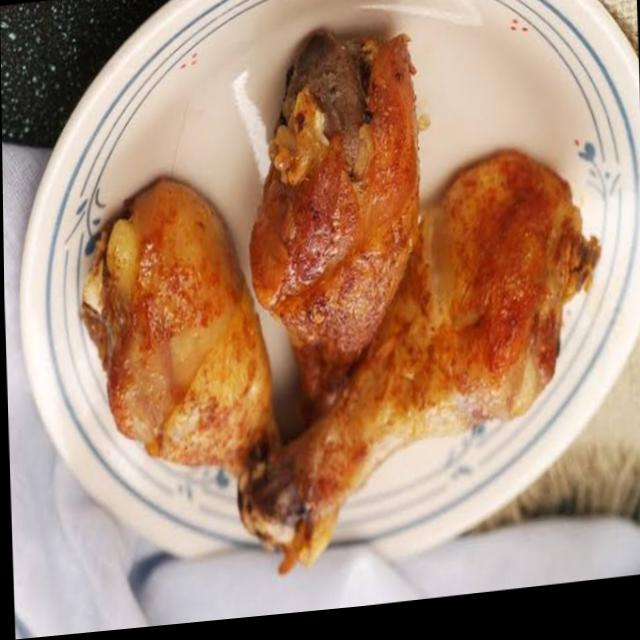CHICKEN FRY: (84, 29, 596, 561)
